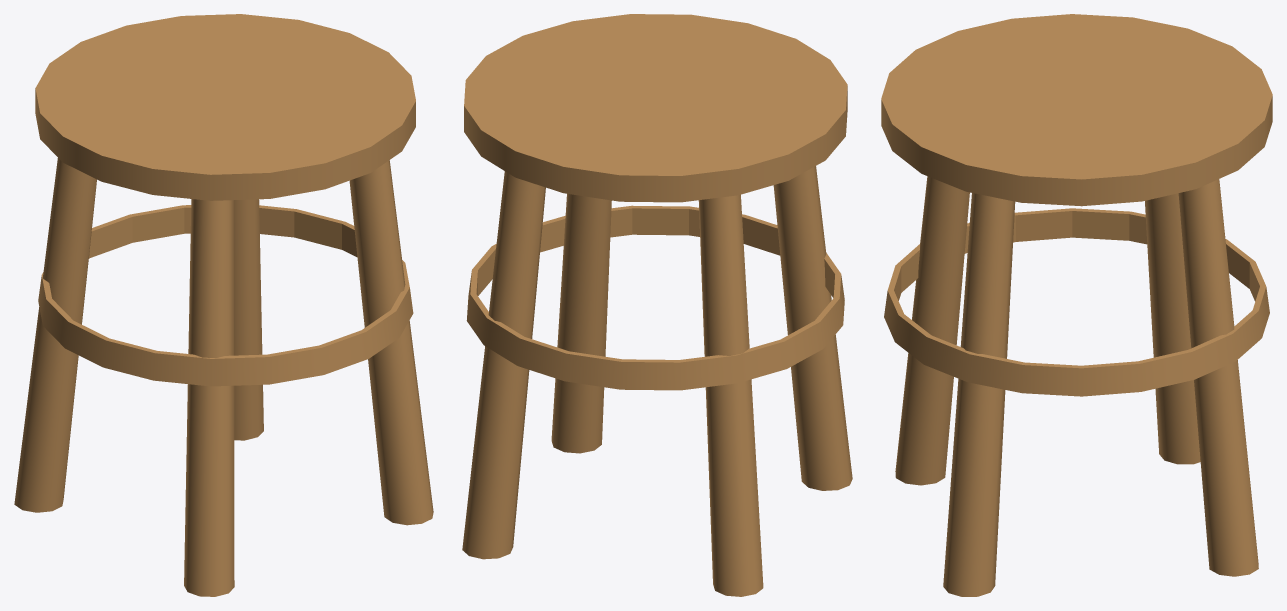
File: stool.fbx
3 renders of one model, left to right at view 1: azimuth 30°, elevation 25°; view 2: azimuth 150°, elevation 25°; view 3: azimuth 270°, elevation 25°, orthographic. The views are drawn at different scales.
Parts seen in each view (by area): view 1: stool__7_; view 2: stool__7_; view 3: stool__7_.
Part boxes in pixels (x1,y1,x2,y2): stool__7_: (14, 14, 433, 596); stool__7_: (462, 14, 852, 596); stool__7_: (881, 14, 1272, 596).
Size of the model in its own units: 64.04 by 76.56 by 64.04.
